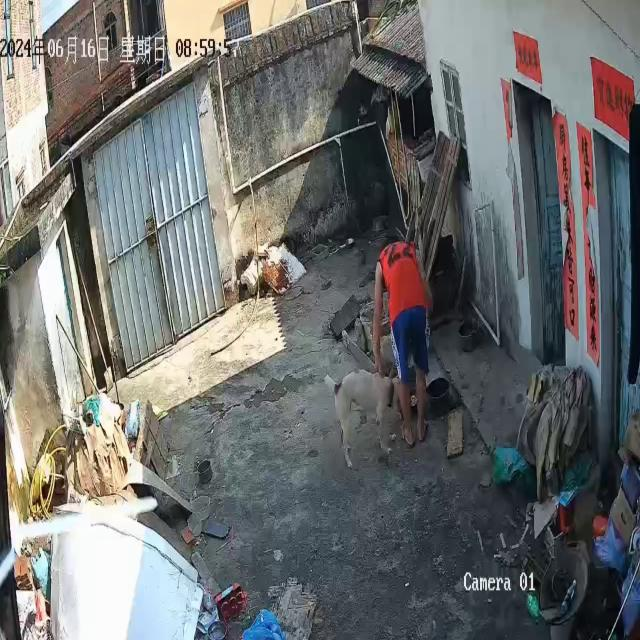dog: (325, 369, 401, 471)
